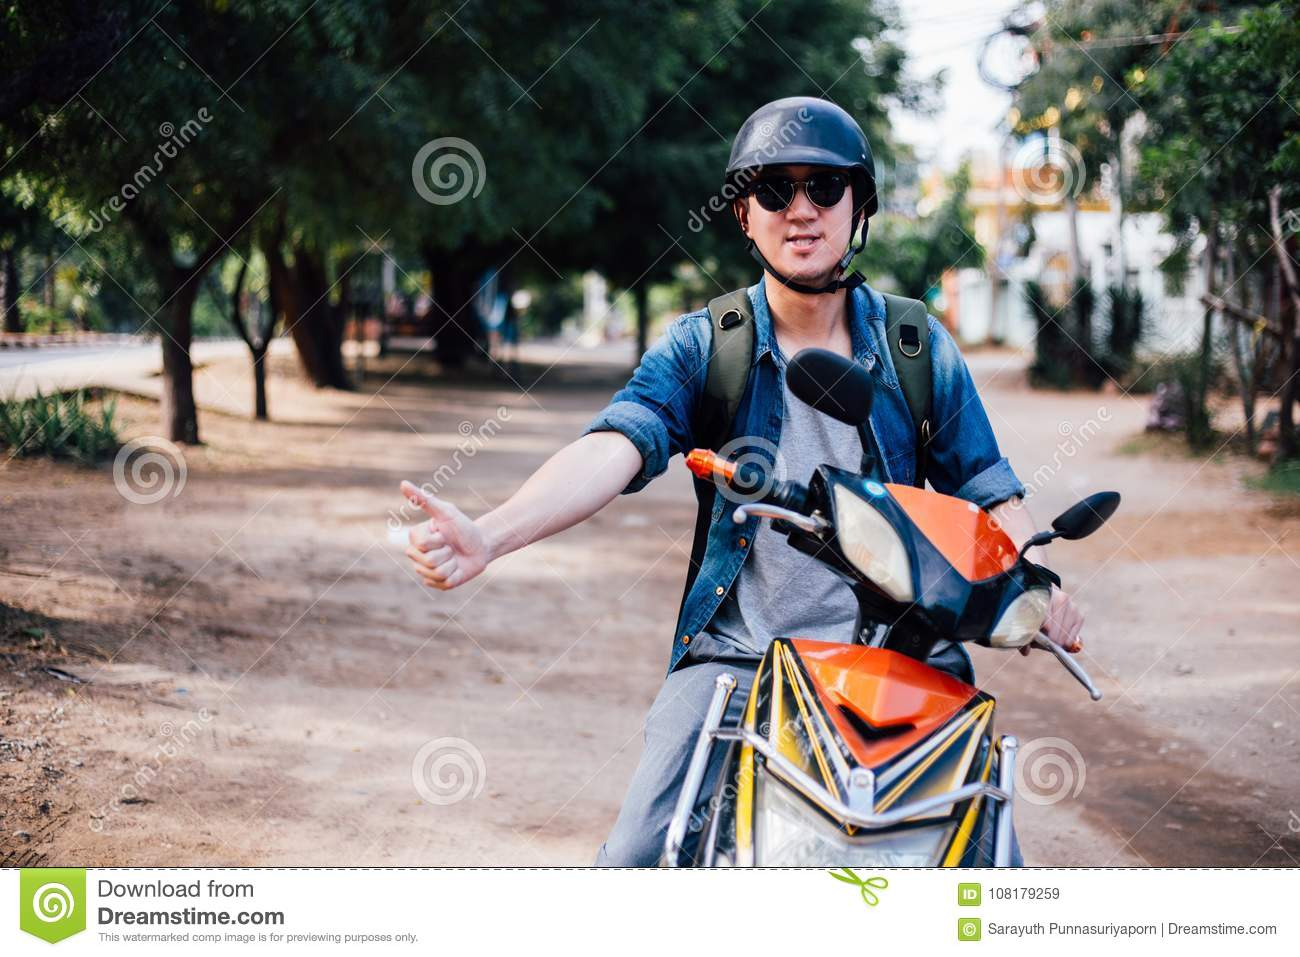helmet: (718, 105, 874, 188)
